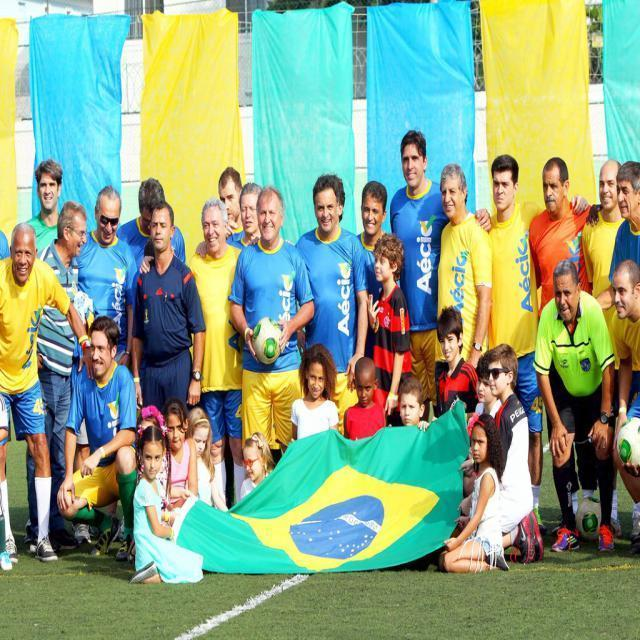ball: (252, 316, 283, 365), (619, 416, 640, 474), (578, 495, 603, 541)
